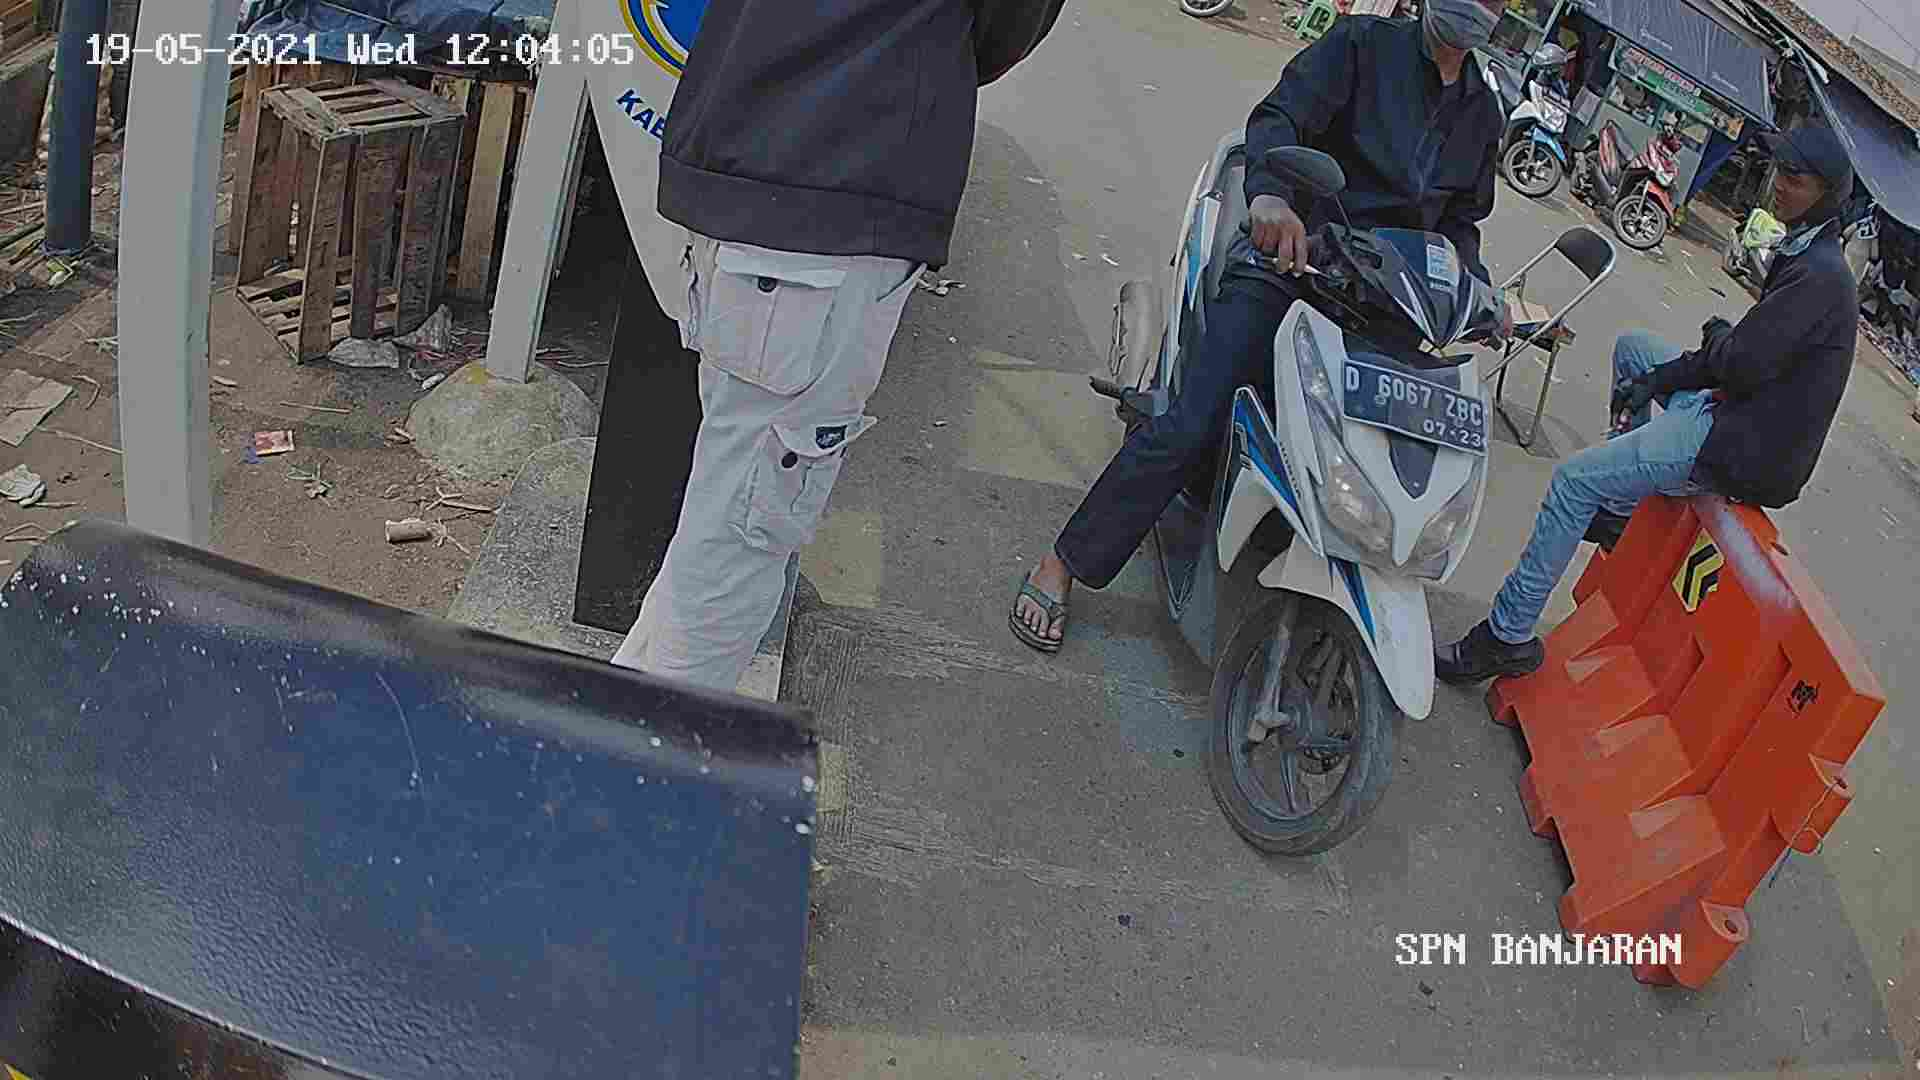motor: (1130, 142, 1563, 833)
